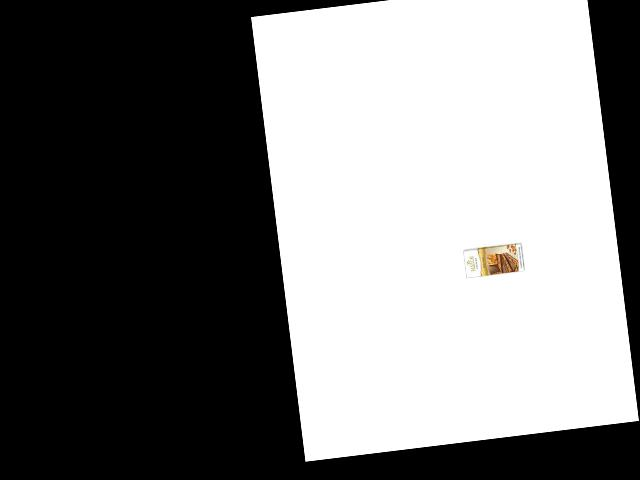chocolate: (458, 231, 527, 284)
